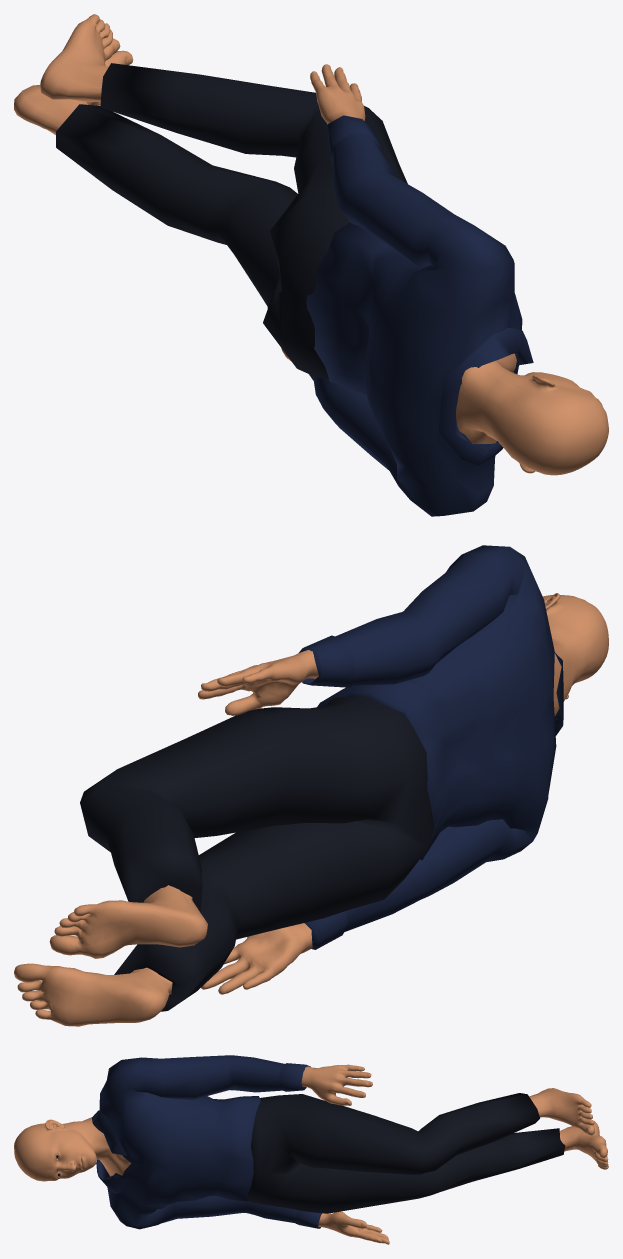
The model's file is walk.obj.
The picture shows the model from 3 angles, top to bottom: view 1: azimuth 30°, elevation 25°; view 2: azimuth 150°, elevation 25°; view 3: azimuth 270°, elevation 25°; orthographic projection. The views are drawn at different scales.
Size of the model in its own units: 0.4335 by 0.5448 by 1.69.
